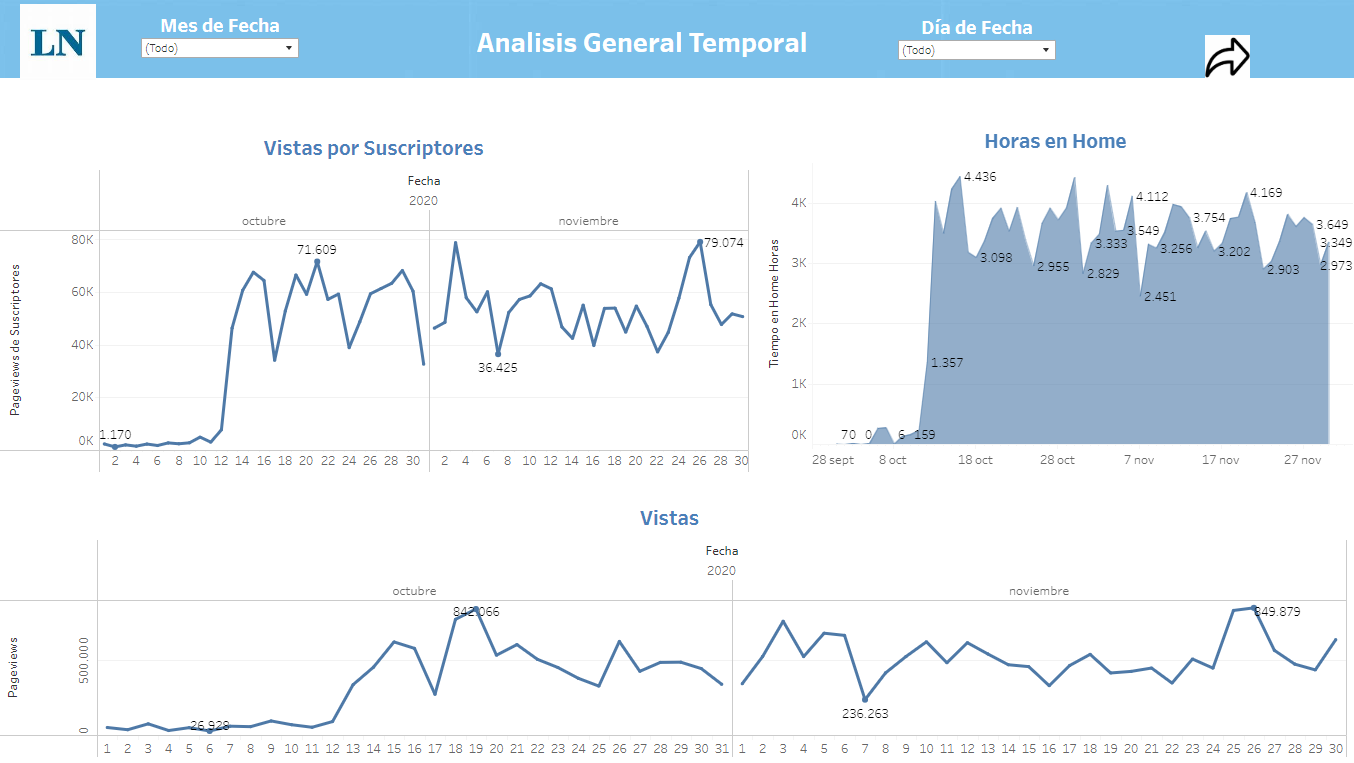

The page's visual inventory and layout, read from the dashboard file:
{"tool":"tableau","page":{"name":"General Temporal","canvas":[1366,768],"ordinal":3},"visuals":[{"type":"image","param":"Image/OIP (2).jpg","box":[3,2,480,80]},{"type":"image","param":"Image/OIP (2).jpg","box":[475,2,627,80]},{"type":"image","param":"Image/OIP (2).jpg","box":[948,2,418,80]},{"type":"image","param":"Image/OIP (3).jpg","box":[26,8,89,76]},{"type":"filter","title":"Hoja 13 (2)","param":"[federated.0rovlj60uc0qtt13ey1p9048ws23].[mn:Calculation_387309625131315221:ok]","box":[146,15,160,55]},{"type":"filter","title":"Hoja 13 (2)","param":"[federated.0rovlj60uc0qtt13ey1p9048ws23].[dy:Calculation_387309625131315221:ok]","box":[903,17,160,47]},{"type":"text","box":[457,26,382,37]},{"type":"dashboard-object","box":[1193,39,81,45]},{"type":"worksheet","title":"Hoja 13 (4)","mark":"Area","rows":["Calculation_387309625060745219"],"cols":["Calculation_387309625131315221"],"box":[764,124,595,354]},{"type":"worksheet","title":"Hoja 13 (2)","mark":"Automatic","rows":["Pageviews de Suscriptores (copia)_387309625062371335"],"cols":["Calculation_387309625131315221","Calculation_387309625131315221","Calculation_387309625131315221","Calculation_387309625131315221"],"box":[5,131,750,346]},{"type":"worksheet","title":"Hoja 13 (3)","mark":"Automatic","rows":["Pageviews"],"cols":["Calculation_387309625131315221","Calculation_387309625131315221","Calculation_387309625131315221","Calculation_387309625131315221"],"box":[3,501,1350,261]}]}

Visuals, with their boxes in screenshot pixels (x1, y1, x2, y2), scaled from the page's 1366x768 canvas onto the 1354x763 screenshot:
image: [3, 2, 479, 81]
image: [471, 2, 1092, 81]
image: [940, 2, 1353, 81]
image: [26, 8, 114, 83]
"Hoja 13 (2)" filter: [145, 15, 303, 70]
"Hoja 13 (2)" filter: [895, 17, 1054, 64]
text: [453, 26, 832, 63]
dashboard-object: [1183, 39, 1263, 83]
"Hoja 13 (4)" worksheet (Area marks): [757, 123, 1347, 475]
"Hoja 13 (2)" worksheet: [5, 130, 748, 474]
"Hoja 13 (3)" worksheet: [3, 498, 1341, 757]
